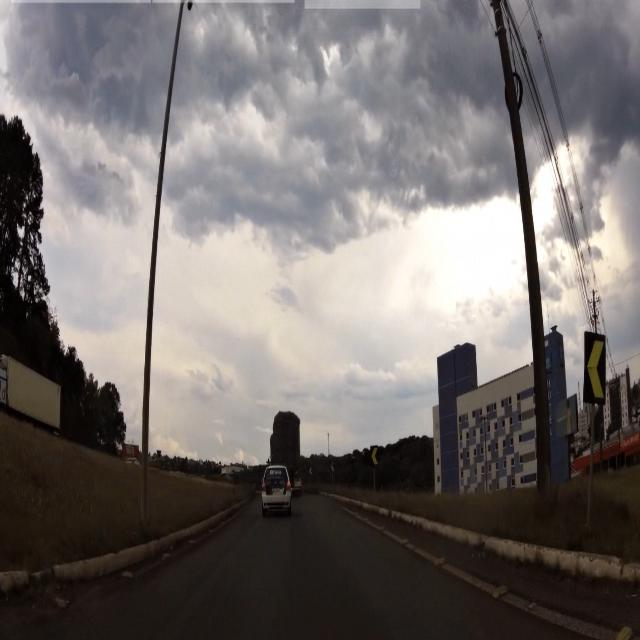Del: (583, 331, 606, 407), (370, 446, 378, 466)
